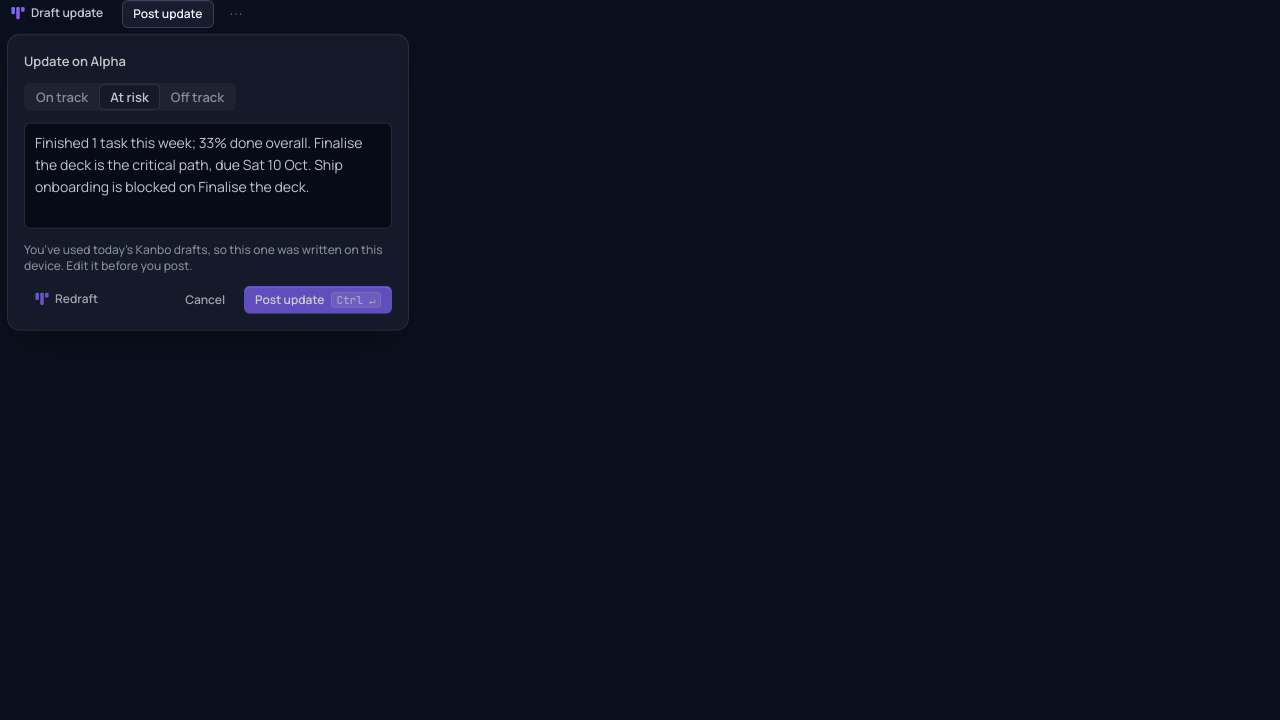
Test: ProjectActions — posting an update › falls back to the on-device draft when Kanbo can't answer (off), and says why without saying AI
Click the button "Draft update" at (57, 14), box 0,0 -> 114,28
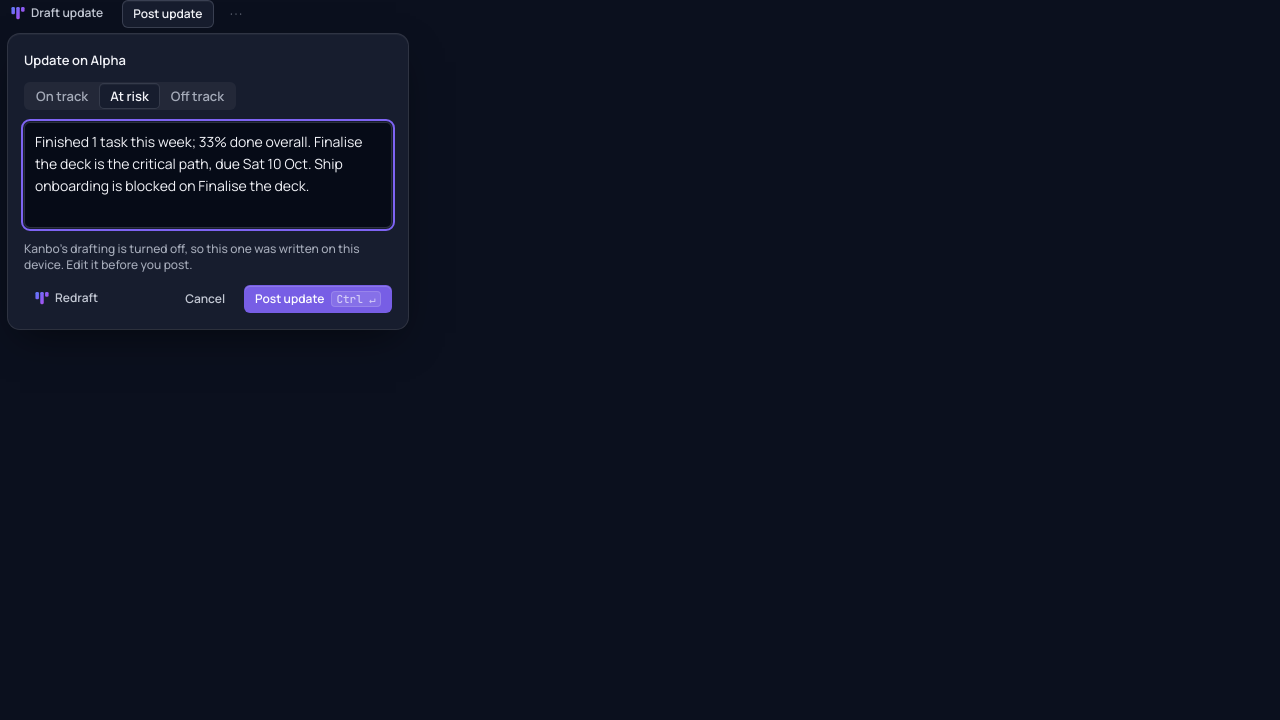
Expected: the text "Kanbo's drafting is turned off, so this one was written on this device." is shown, 24,240 -> 360,273
